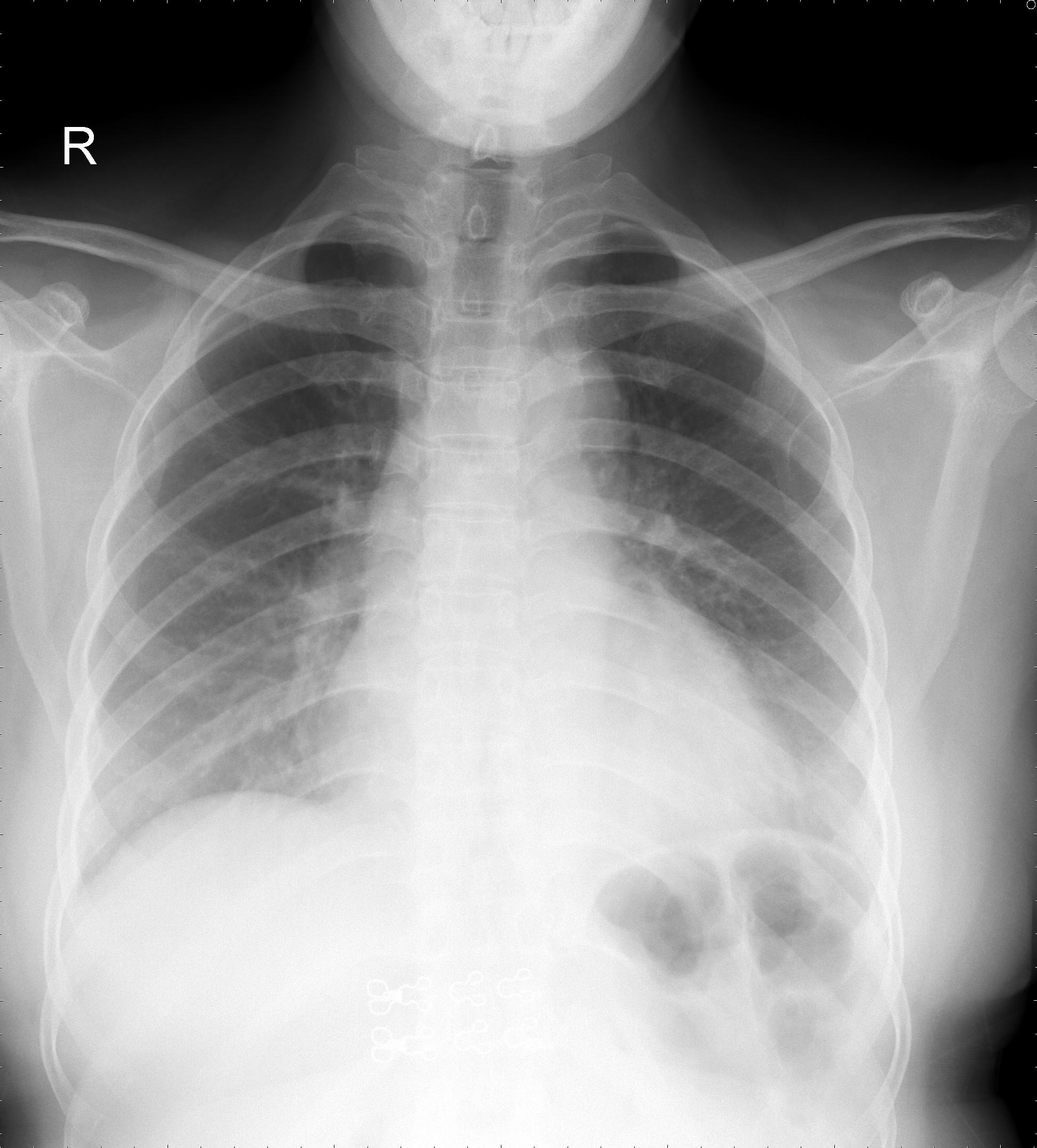Aortic enlargement: (502, 346, 626, 496)
Cardiomegaly: (321, 510, 783, 881)
